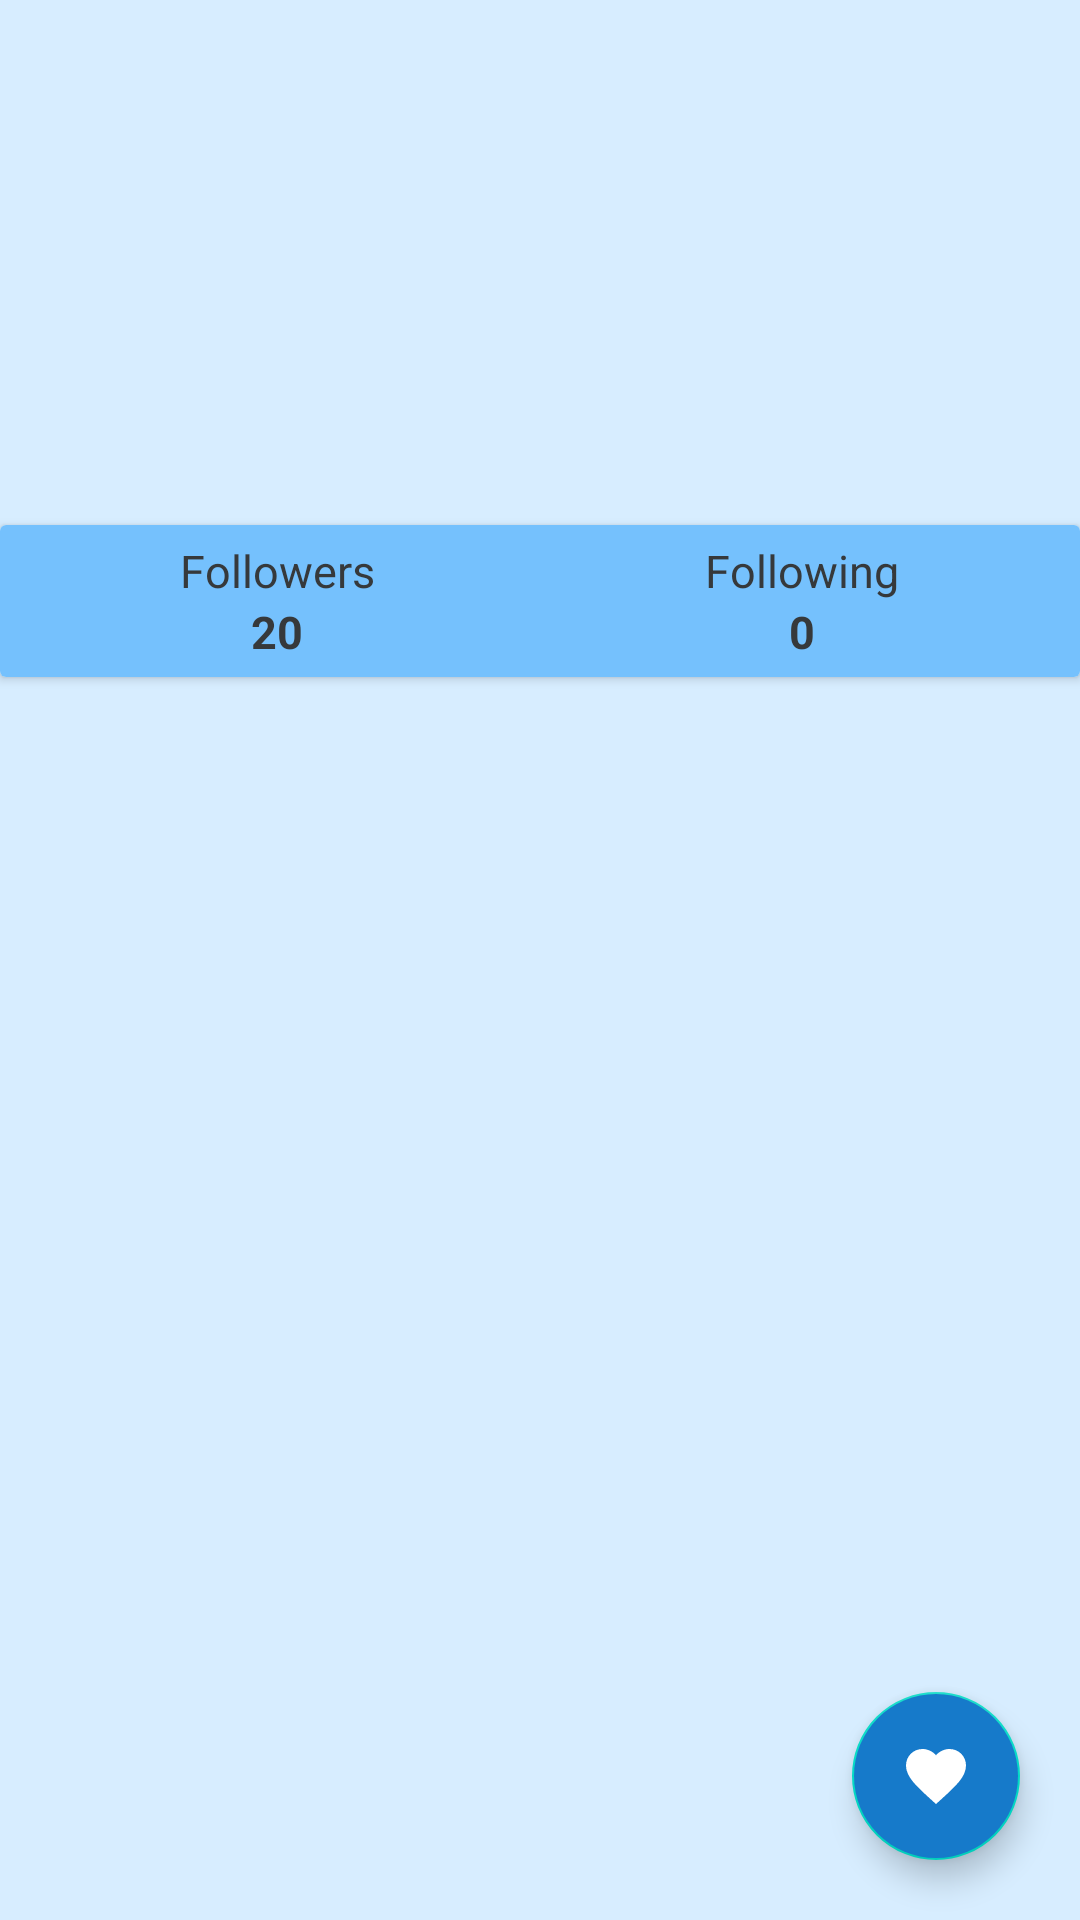

Icon click points for this 1080*1920 phone screenshot, format [x,y]:
Favorite: [936,1776]
